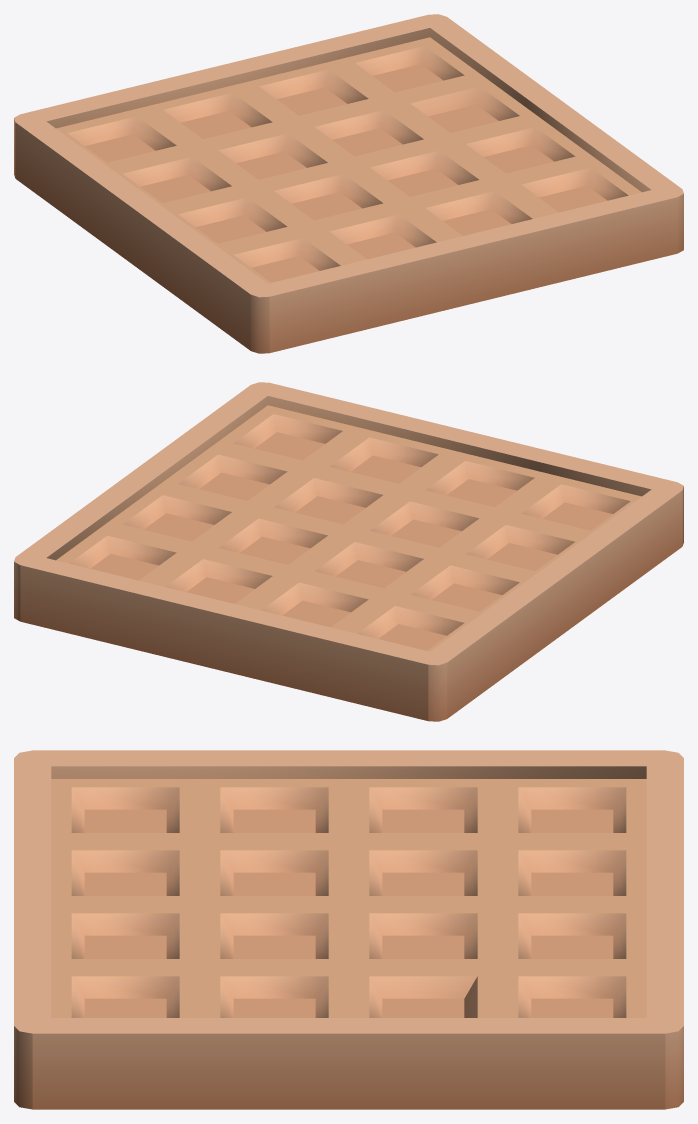
File: kenney-food-waffle.glb
The picture shows the model from 3 angles, top to bottom: view 1: azimuth 30°, elevation 25°; view 2: azimuth 150°, elevation 25°; view 3: azimuth 270°, elevation 25°; orthographic projection. The views are drawn at different scales.
Parts seen in each view (by area): view 1: waffle; view 2: waffle; view 3: waffle.
Part boxes in pixels (x1,y1,x2,y2): waffle: (14,14,683,353); waffle: (14,382,683,721); waffle: (14,750,683,1109).
Bounding box in the file's own units: 0.3204 × 0.0401 × 0.3204.
1 material, 1 textured.
